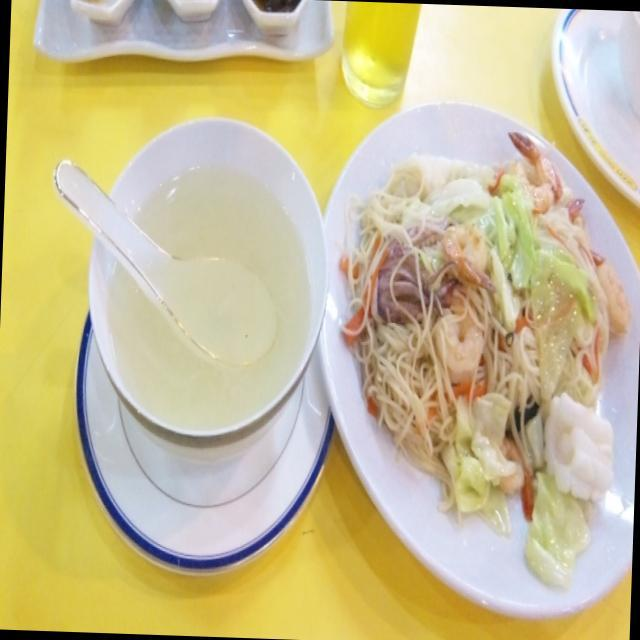Pasta: (318, 153, 640, 532)
